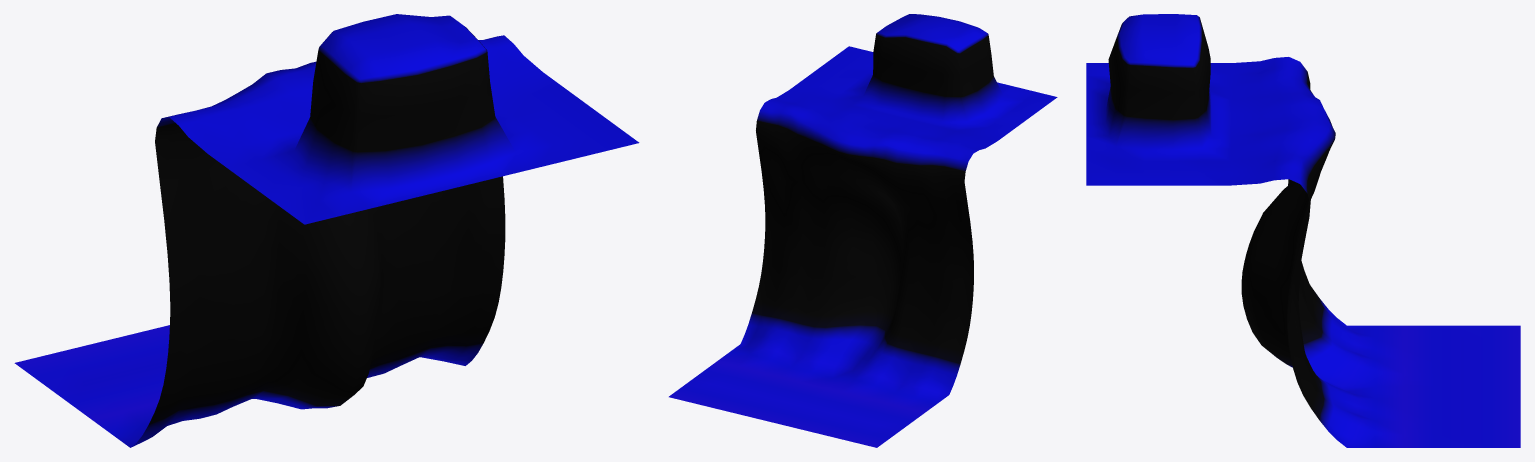
The model's file is WaterFallCliff02E 3M.fbx.
3 renders of one model, left to right at view 1: azimuth 30°, elevation 25°; view 2: azimuth 150°, elevation 25°; view 3: azimuth 270°, elevation 25°, orthographic. The views are drawn at different scales.
Visible parts, largest first — view 1: WaterFallCliff02E 3M; view 2: WaterFallCliff02E 3M; view 3: WaterFallCliff02E 3M.
Boxes of the visible parts, x1,y1,x2,y2 form: WaterFallCliff02E 3M: (14, 14, 639, 447); WaterFallCliff02E 3M: (669, 14, 1057, 447); WaterFallCliff02E 3M: (1086, 14, 1520, 447).
Size of the model in its own units: 2 by 2.66 by 3.
